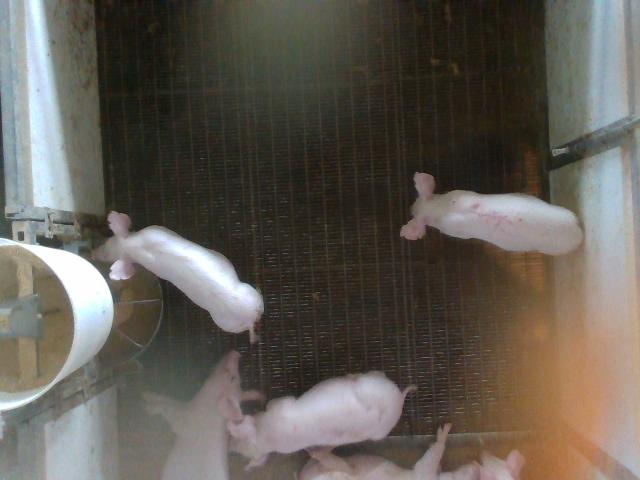pig-5: (402, 173, 584, 254)
